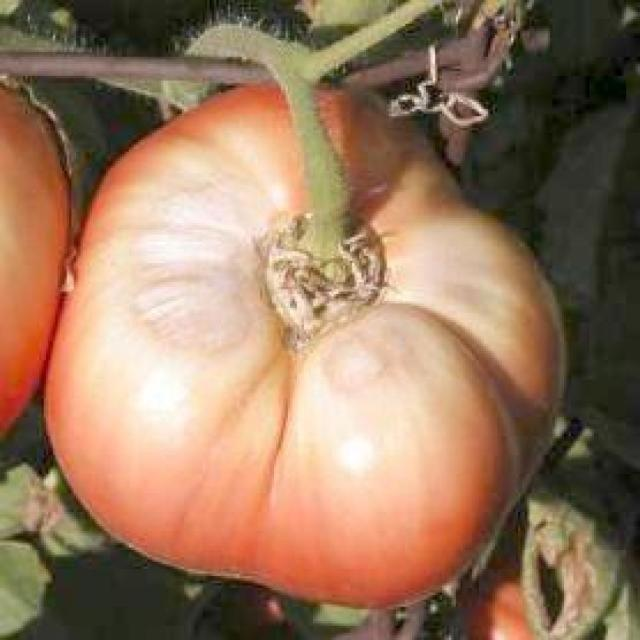Sunscald Fruit: (86, 89, 332, 312)
